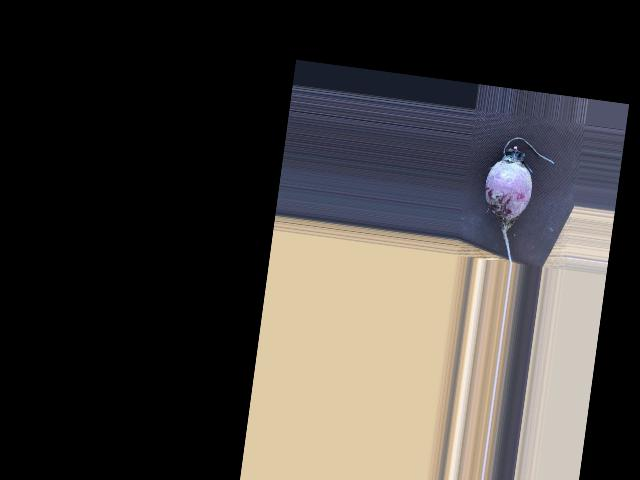beet: (474, 133, 556, 267)
